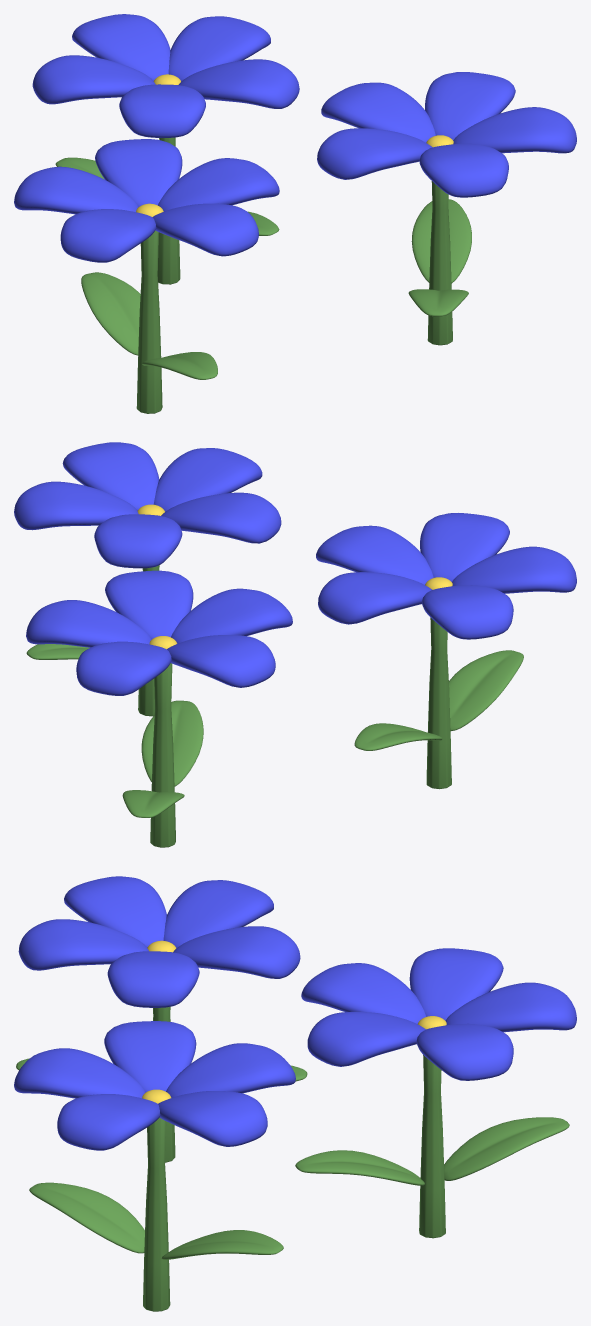
File: Flower_Blue.glb
3 renders of one model, top to bottom at view 1: azimuth 30°, elevation 25°; view 2: azimuth 150°, elevation 25°; view 3: azimuth 270°, elevation 25°, orthographic. The views are drawn at different scales.
Visible parts, largest first — view 1: BFlower.003; view 2: BFlower.003; view 3: BFlower.003.
Boxes of the visible parts, box(x1,y1,x2,y2) form: BFlower.003: box(14, 14, 576, 413); BFlower.003: box(14, 442, 576, 847); BFlower.003: box(14, 876, 576, 1311).
Bounding box in the file's own units: 5.84 × 2.46 × 5.33.
